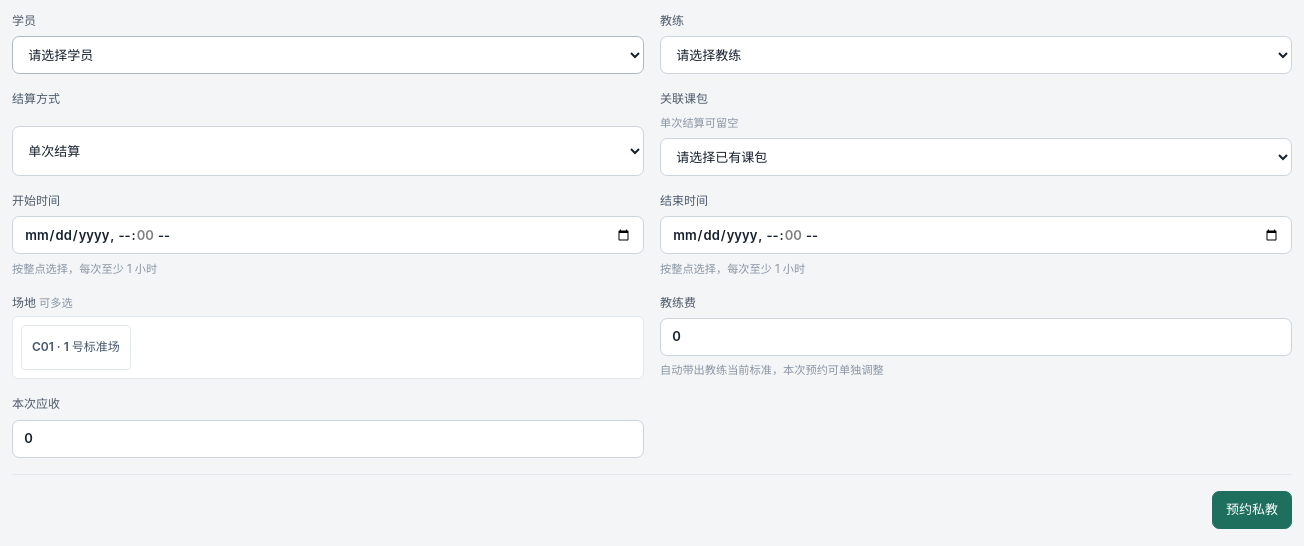
Test: operations forms › requires a package after switching a private lesson to package billing
Select "student-1" in the dropdown labelled "学员": point(328, 55) x1=12 y1=36 x2=644 y2=74
Select "coach-1" in the dropdown labelled "教练": point(976, 55) x1=660 y1=36 x2=1292 y2=74
Select "课包扣课" in the dropdown labelled "结算方式": point(328, 151) x1=12 y1=126 x2=644 y2=176
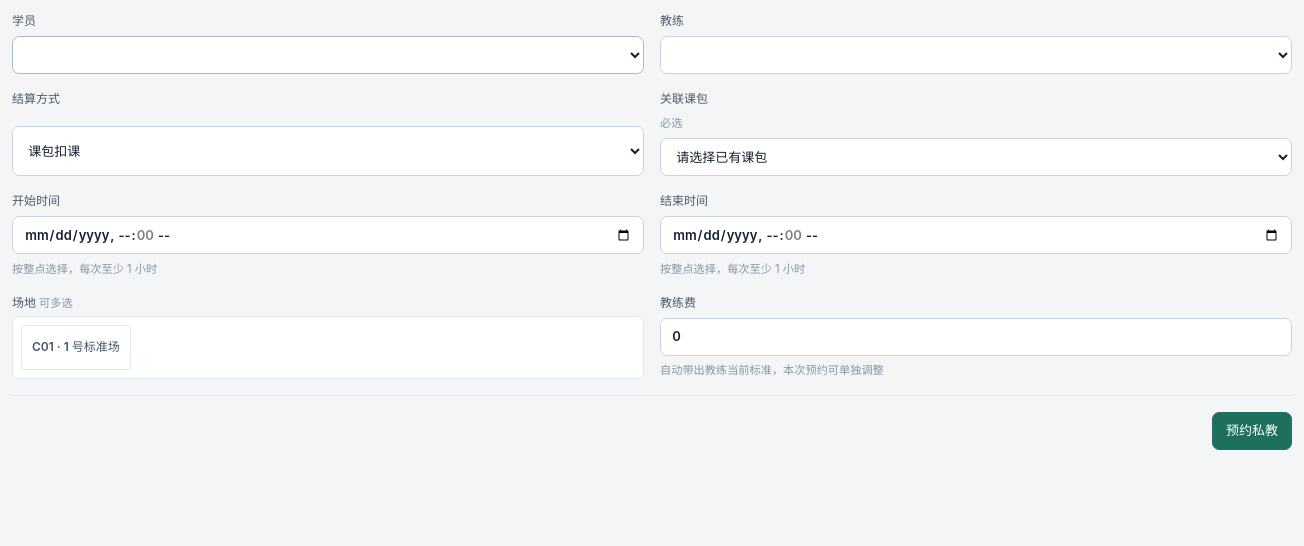
In the field labelled "开始时间 按整点选择，每次至少 1 小时": point(328, 235) x1=12 y1=216 x2=644 y2=254, type "2099-08-01T10:00"
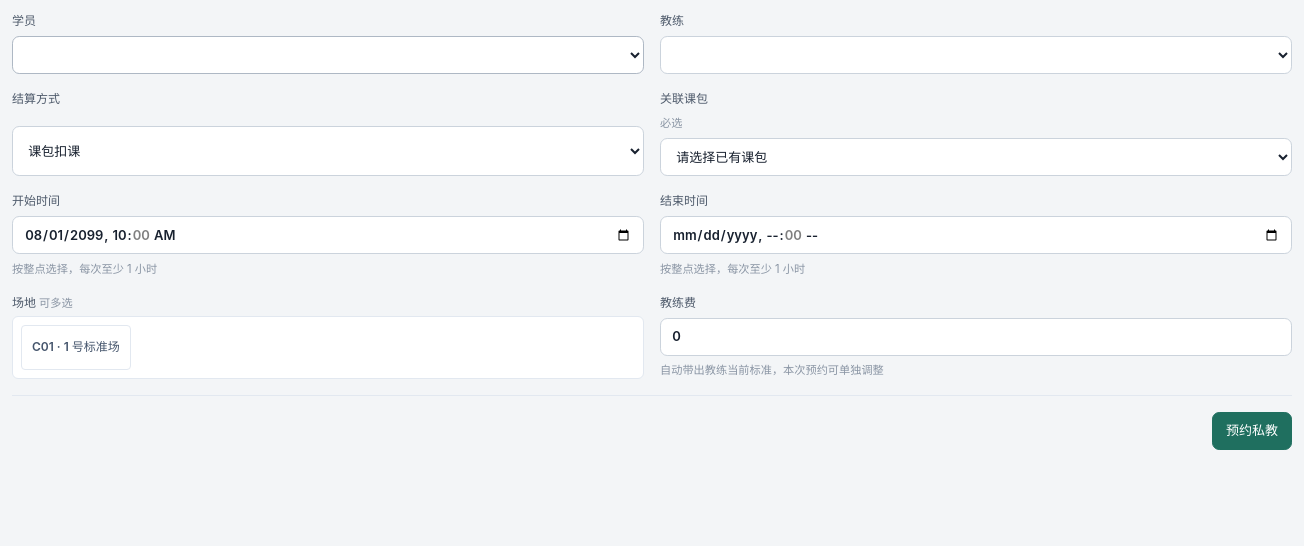
In the field labelled "结束时间 按整点选择，每次至少 1 小时": point(976, 235) x1=660 y1=216 x2=1292 y2=254, type "2099-08-01T11:00"
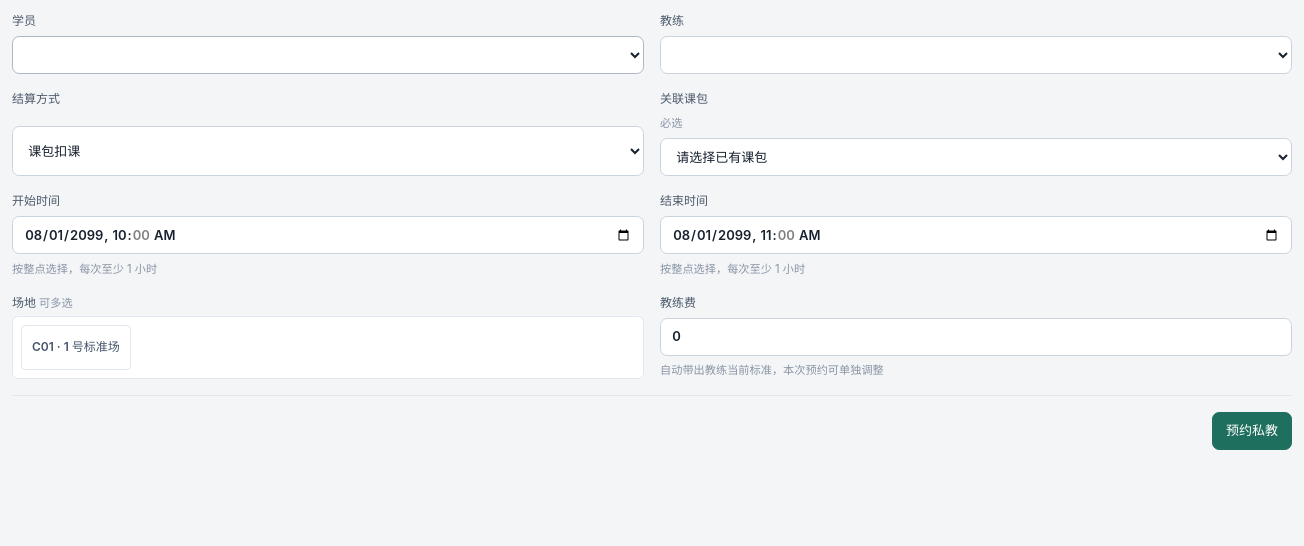
Click the button "C01 · 1 号标准场": point(76, 347) x1=21 y1=324 x2=131 y2=370
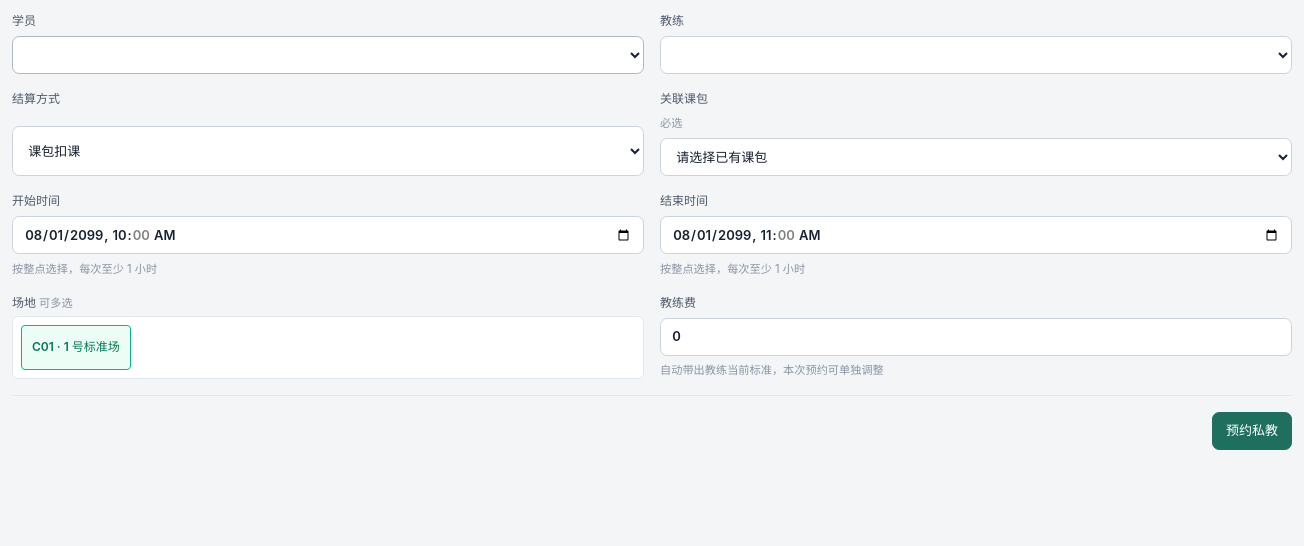
Click the button "预约私教": point(1252, 431) x1=1212 y1=412 x2=1292 y2=450
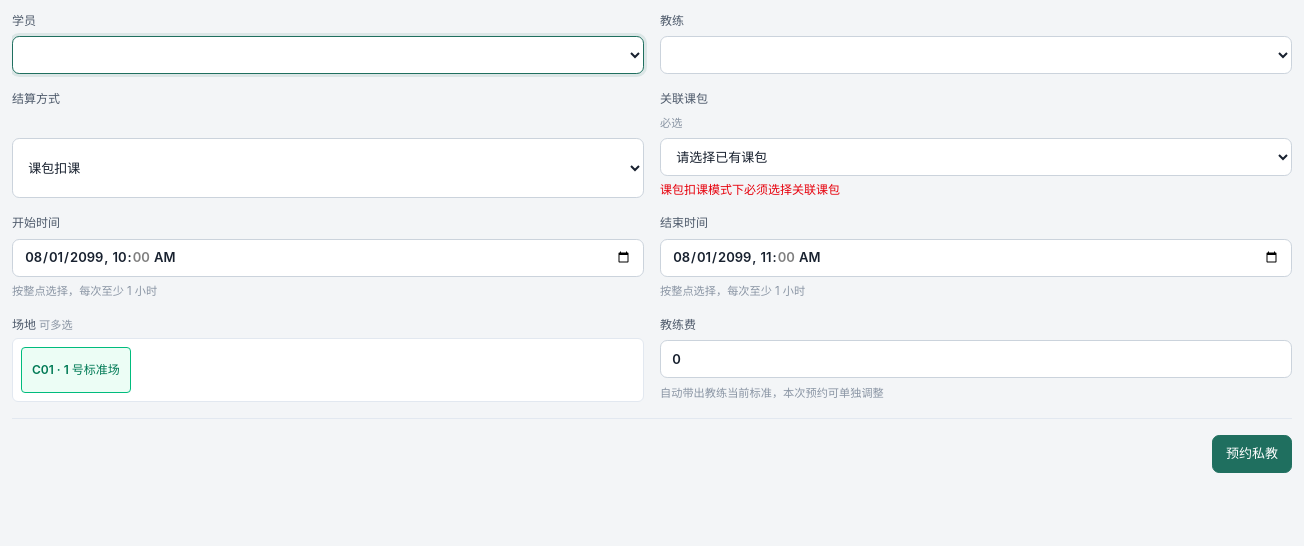
Expected: the message reads "课包扣课模式下必须选择关联课包", x1=660 y1=182 x2=840 y2=197
